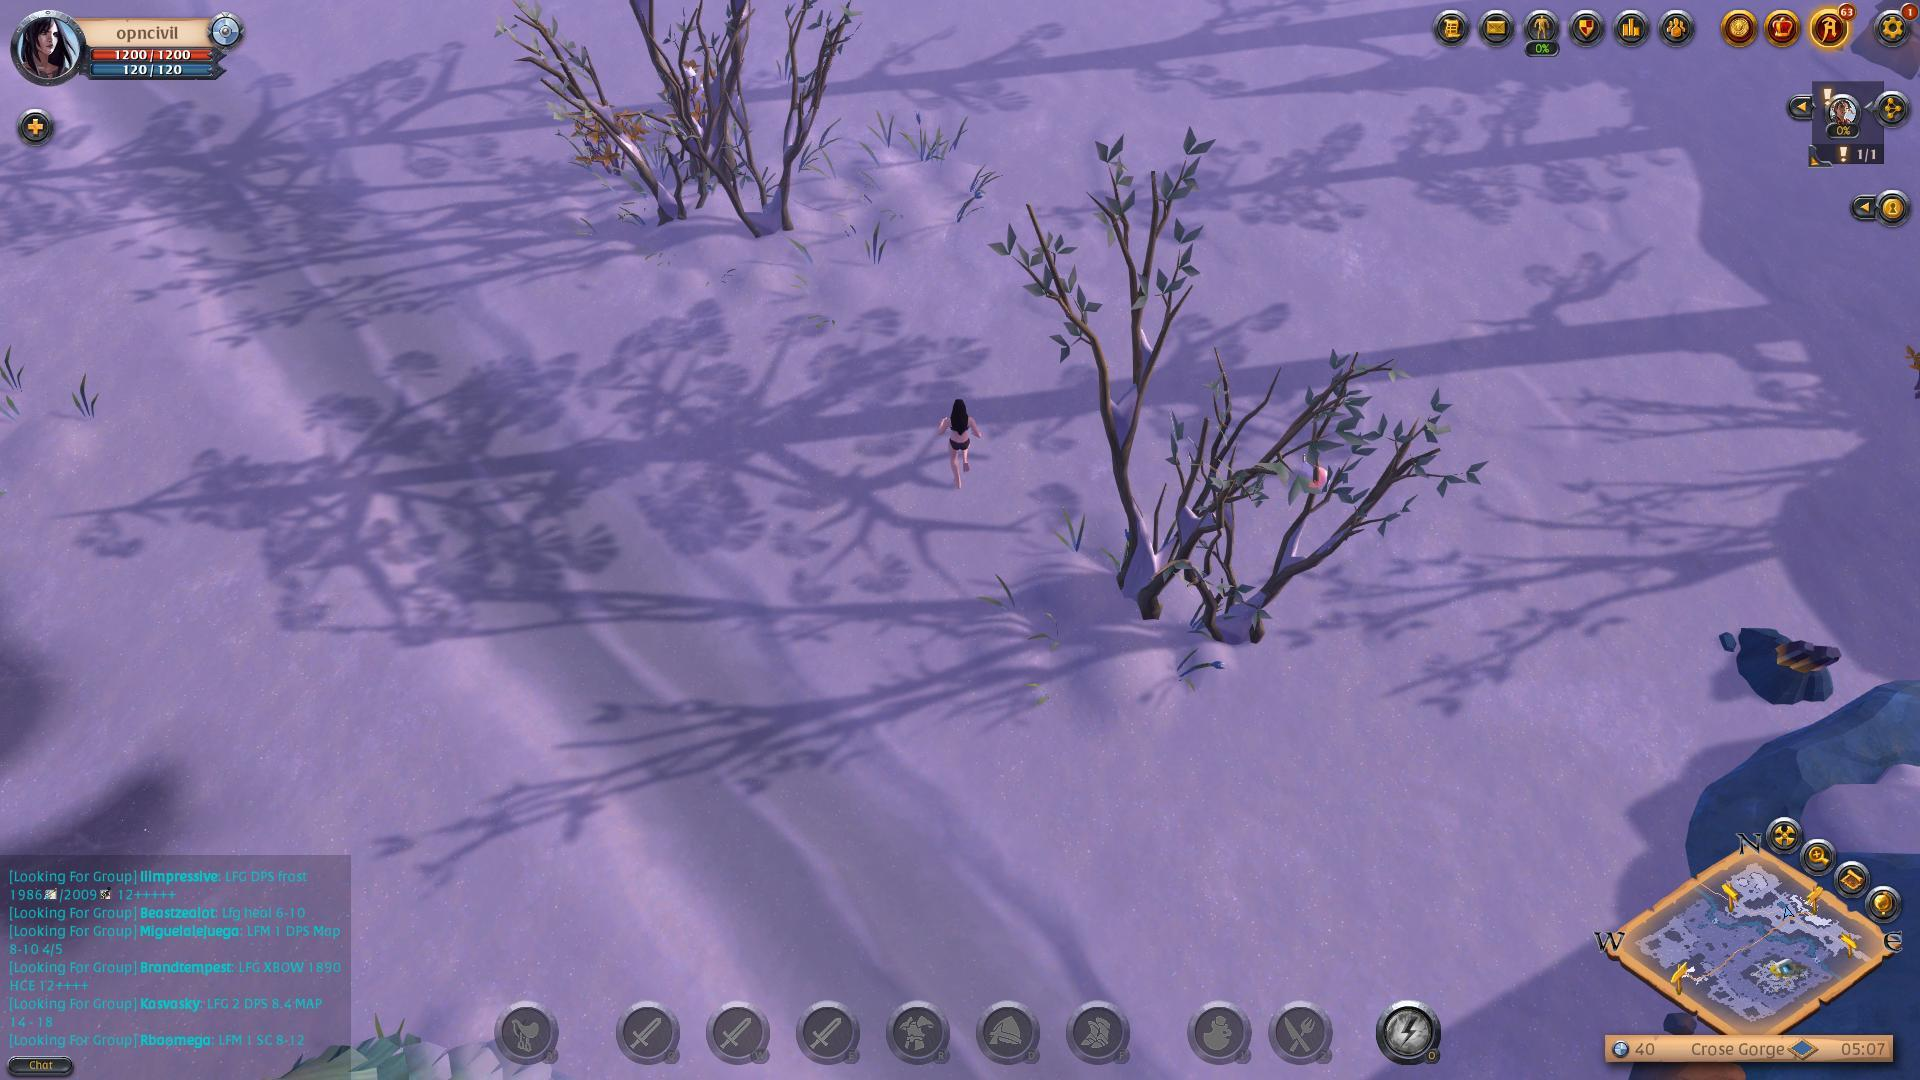copper_ore: (1727, 596, 1847, 713)
